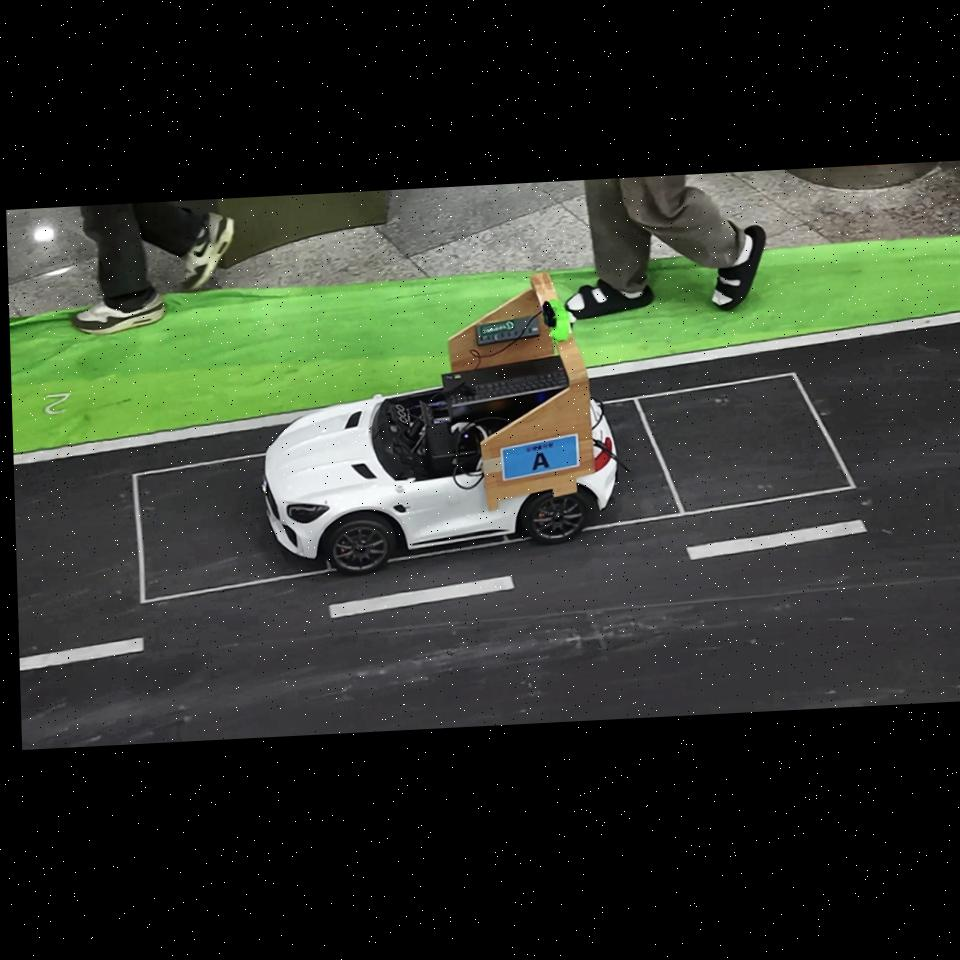broken_line: (328, 575, 515, 619), (686, 519, 867, 560), (20, 637, 144, 671)
